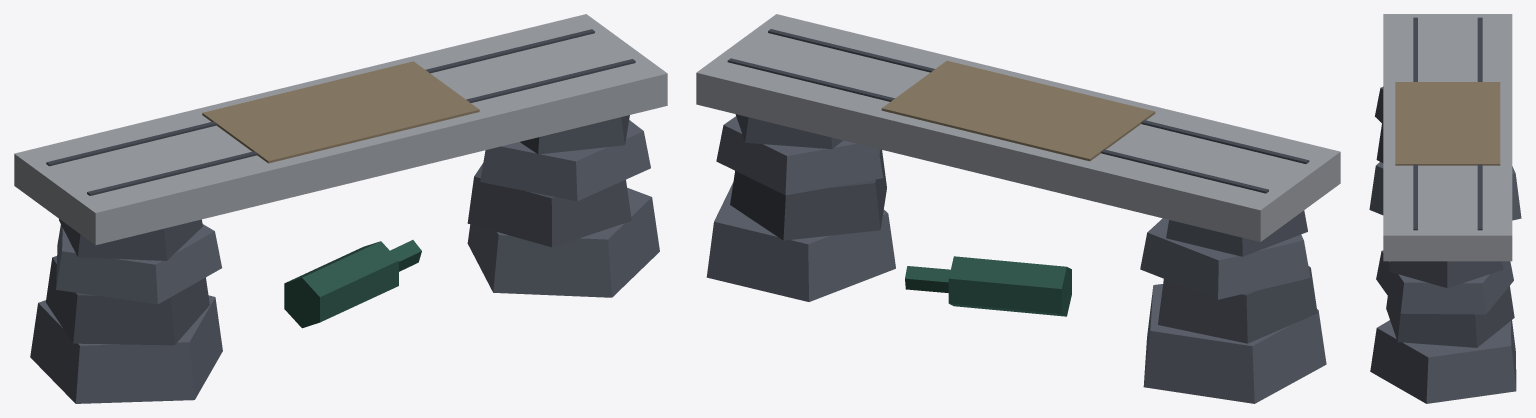
File: plank_bench.glb
3 views of the same model, side by side, from view 1: azimuth 30°, elevation 25°; view 2: azimuth 150°, elevation 25°; view 3: azimuth 270°, elevation 25° (orthographic). The views are drawn at different scales.
Parts seen in each view (by area): view 1: silverfog_d20, slate_d15, slate_d30, driftwood_d30, pine_d10, slate_d35; view 2: silverfog_d20, slate_d15, slate_d30, driftwood_d30, pine_d10, slate_d35; view 3: silverfog_d20, slate_d15, driftwood_d30, slate_d30, slate_d35.
Part boxes in pixels (x1,y1,x2,y2): silverfog_d20: (14, 14, 667, 245); slate_d15: (30, 120, 659, 403); slate_d30: (46, 115, 631, 345); driftwood_d30: (202, 61, 479, 163); pine_d10: (284, 240, 421, 328); slate_d35: (46, 29, 635, 195); silverfog_d20: (696, 14, 1340, 241); slate_d15: (706, 116, 1326, 403); slate_d30: (730, 114, 1317, 343); driftwood_d30: (881, 60, 1155, 161); pine_d10: (905, 256, 1071, 316); slate_d35: (727, 29, 1309, 193); silverfog_d20: (1383, 14, 1512, 261); slate_d15: (1369, 87, 1521, 403); driftwood_d30: (1395, 82, 1500, 165); slate_d30: (1376, 86, 1514, 347); slate_d35: (1413, 17, 1482, 230).
Bounding box in the file's own units: 1.35 × 0.445 × 0.3771.
